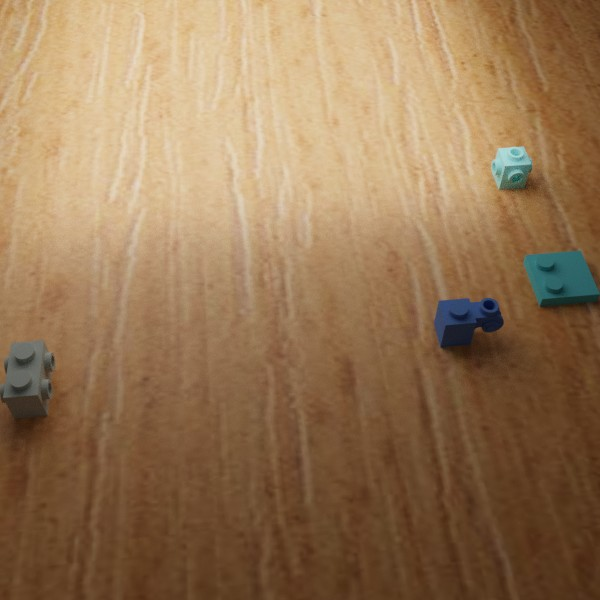lego: (523, 250, 600, 306), (0, 340, 55, 418), (433, 297, 503, 347), (491, 146, 532, 189)
